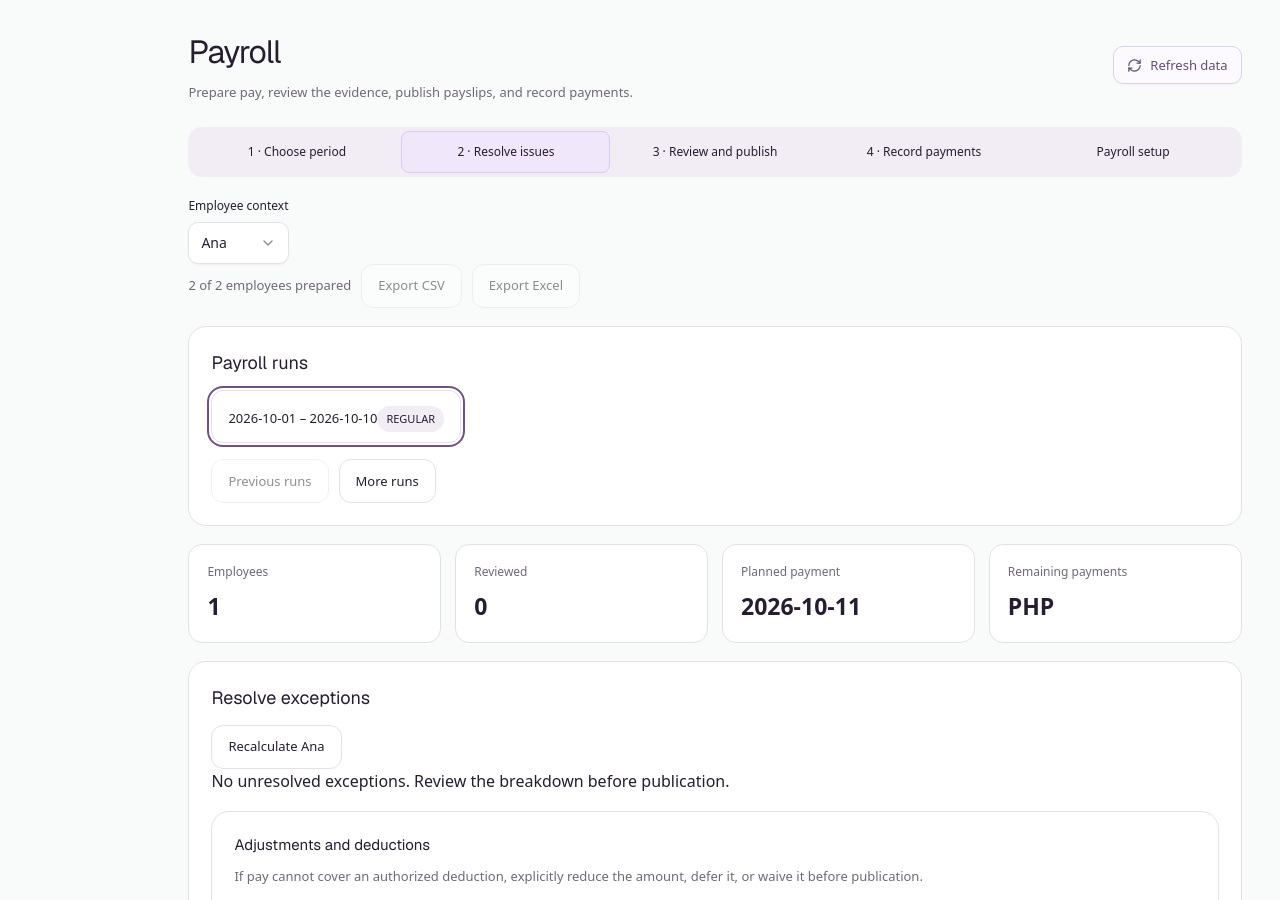
payroll lifecycle workspace › keeps review panel identities distinct for all and selected employees
The image size is (1280, 900).
expect the dropdown named "Employee context" reads "Ana": met, box [188, 222, 289, 264]
Click the button "3 · Review and publish" at [715, 152], box [610, 131, 820, 173]
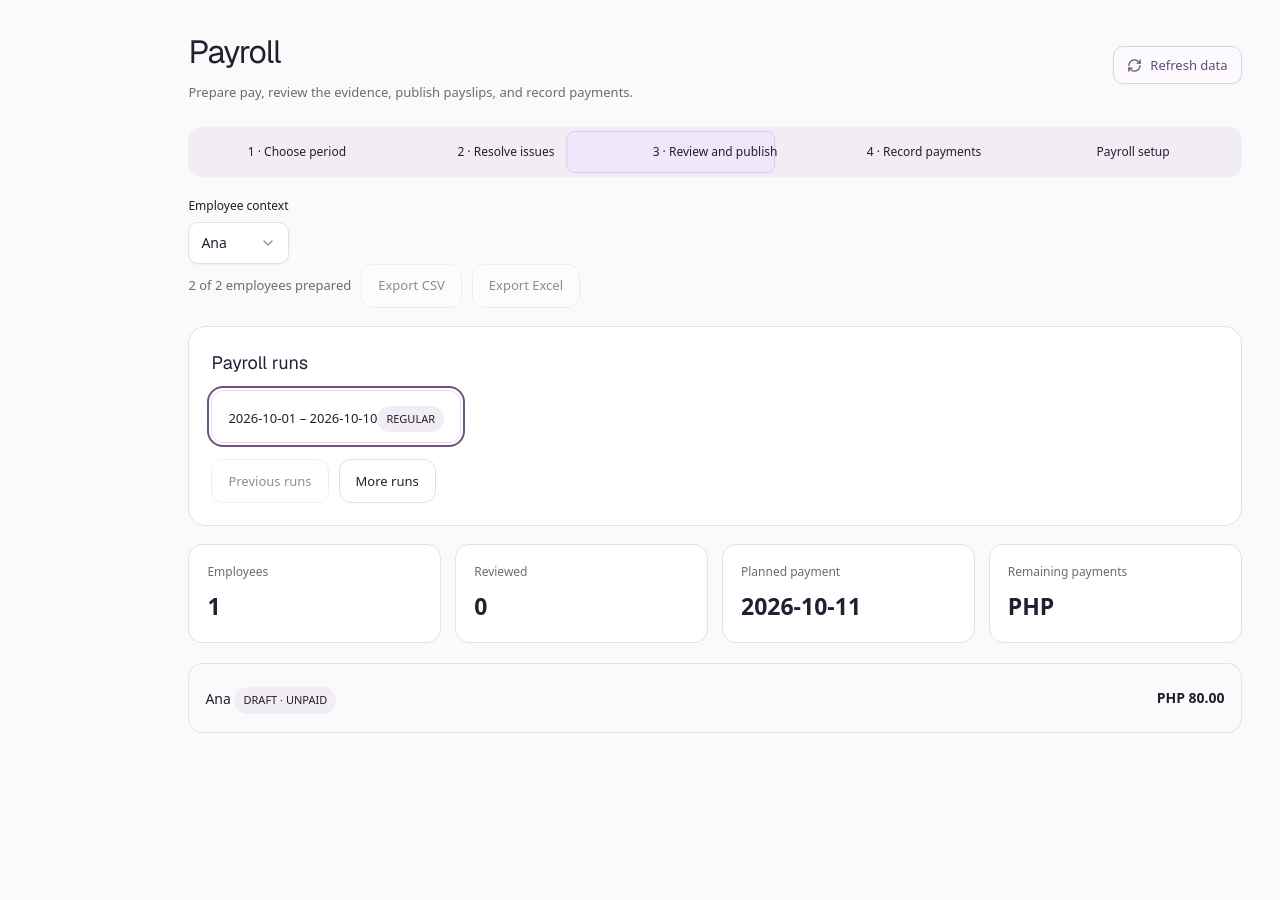
Click the button "2 · Resolve issues" at [506, 152], box [401, 131, 610, 173]
(page scrolled)
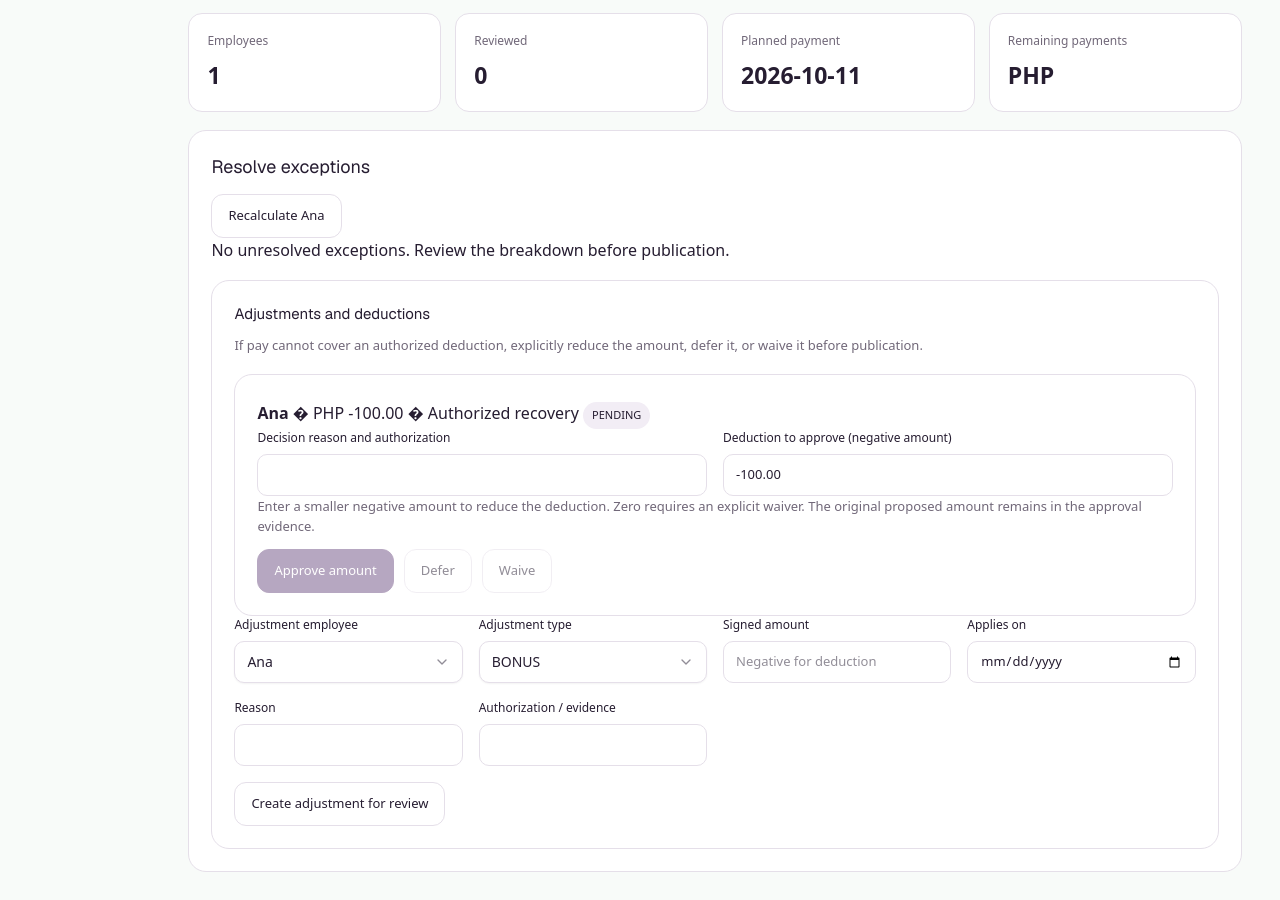
expect the element named "Ana adjustment decision" is shown: met, box [234, 374, 1196, 616]
